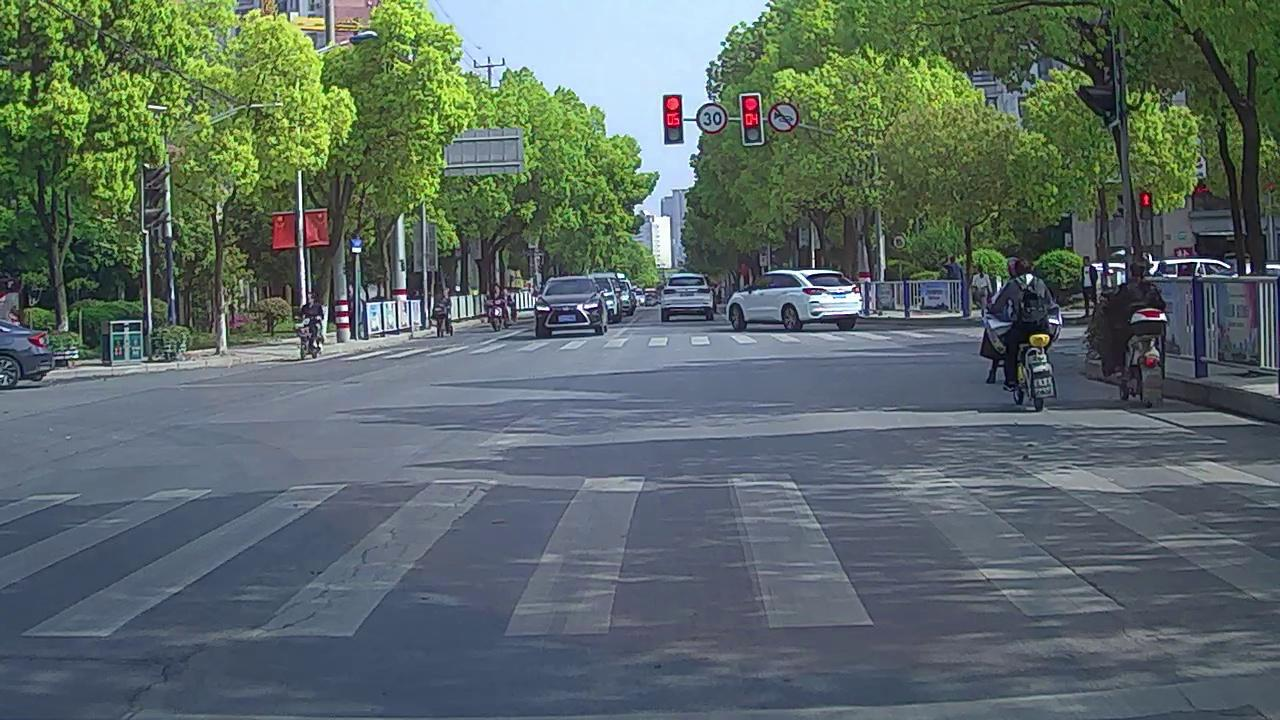traffic_light: (741, 92, 762, 143), (663, 95, 682, 143)
